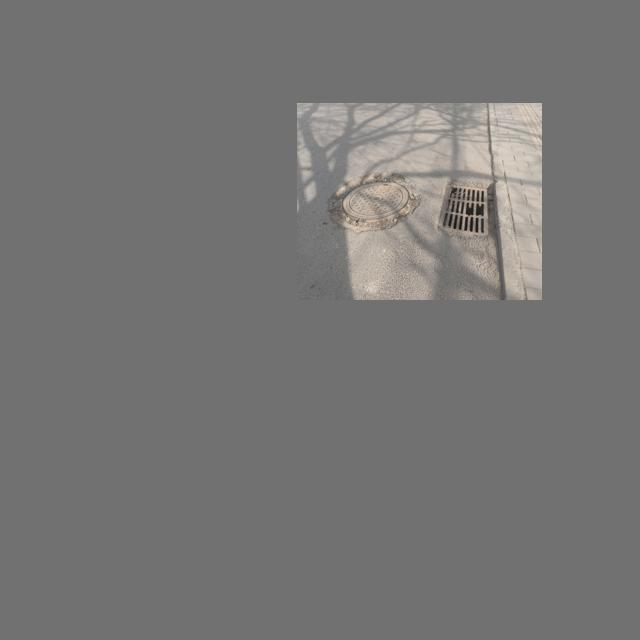circle: (327, 167, 423, 235)
